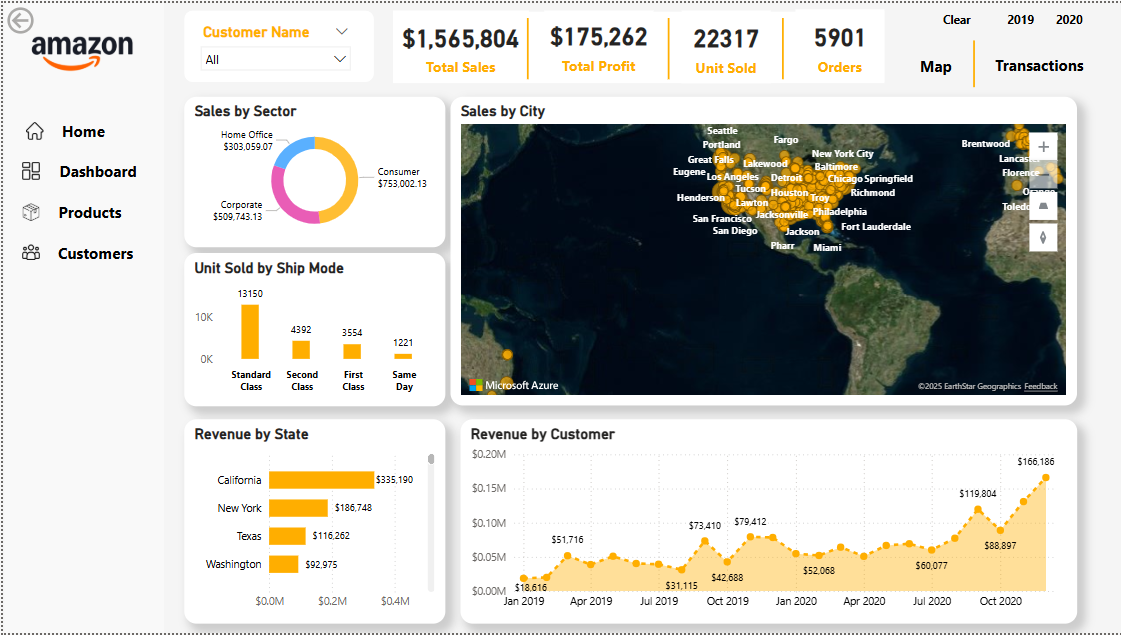

The page's visual inventory and layout, read from the dashboard file:
{"tool":"powerbi","page":{"name":"Customers","canvas":[1280,720],"ordinal":4},"visuals":[{"type":"actionButton","box":[0,0,100,40],"z":0},{"type":"textbox","box":[1.4,0,182.3,720.7],"z":1000},{"type":"actionButton","box":[14.9,125.4,155.3,40.3],"z":2000},{"type":"actionButton","box":[20.9,173.2,174.7,38.8],"z":3000},{"type":"actionButton","box":[16.4,218,167.2,40.3],"z":4000},{"type":"actionButton","box":[20.9,265.8,168.7,38.8],"z":5000},{"type":"image","box":[14.9,131.4,43.3,29.9],"z":6000},{"type":"image","box":[10.5,177.7,43.3,29.9],"z":7000},{"type":"image","box":[10.5,224,43.3,29.9],"z":8000},{"type":"image","box":[10.5,270.3,44.8,29.9],"z":9000},{"type":"image","box":[6,19.4,170.2,76.2],"z":10000},{"type":"donutChart","title":"Sales by Sector","fields":{"Category":["Amazon_cleaned.Segment"],"Y":["Sum(Amazon_cleaned.Sales)"]},"box":[206.7,106.7,298.3,171.7],"z":11000},{"type":"shape","box":[206.7,8.3,216.7,81.7],"z":16000},{"type":"slicer","fields":{"Values":["Amazon_cleaned.Customer Name"]},"box":[215,18.3,191.7,61.7],"z":17000},{"type":"shape","box":[445,10,561.7,81.7],"z":18000},{"type":"card","fields":{"Values":["Sum(Amazon_cleaned.Sales)"]},"box":[445,8.3,155,81.7],"z":19000},{"type":"shape","box":[581.7,16.7,36.7,70],"z":20000},{"type":"shape","box":[745,16.7,30,70],"z":21000},{"type":"shape","box":[876.7,16.7,28.3,70],"z":22000},{"type":"card","fields":{"Values":["Sum(Amazon_cleaned.Profit)"]},"box":[618.3,8.3,125,78.3],"z":23000},{"type":"card","fields":{"Values":["CountNonNull(Amazon_cleaned.Order ID)"]},"box":[905,6.7,101.7,83.3],"z":24000},{"type":"card","fields":{"Values":["Sum(Amazon_cleaned.Quantity)"]},"box":[775,8.3,101.7,83.3],"z":25000},{"type":"actionButton","box":[1023.3,51.7,86.7,40],"z":26000},{"type":"actionButton","box":[1128.3,50,111.7,40],"z":27000},{"type":"shape","box":[1091.7,43.3,36.7,53.3],"z":28000},{"type":"clusteredColumnChart","title":"Unit Sold by Ship Mode","fields":{"Category":["Amazon_cleaned.Ship Mode"],"Y":["Sum(Amazon_cleaned.Quantity)"]},"box":[206.7,285,298.3,175],"z":29000},{"type":"clusteredBarChart","title":"Revenue by State","fields":{"Y":["Sum(Amazon_cleaned.Sales)"],"Category":["Amazon_cleaned.State"]},"box":[206.7,475,298.3,233.3],"z":30000},{"type":"azureMap","title":"Sales by City","fields":{"Size":["Sum(Amazon_cleaned.Sales)"],"Category":["Amazon_cleaned.City"]},"box":[511,107,716,353],"z":31000},{"type":"areaChart","title":"Revenue by Customer","fields":{"Y":["Sum(Amazon_cleaned.Sales)"],"Category":["Amazon_cleaned.Order Date.Variation.Date Hierarchy.Year","Amazon_cleaned.Order Date.Variation.Date Hierarchy.Month"]},"box":[523.3,475,705,233.3],"z":32000},{"type":"actionButton","box":[1056.2,0,68.8,36.2],"z":34000},{"type":"actionButton","box":[1128.8,0,68.8,36.2],"z":35000},{"type":"actionButton","box":[1183.8,0,68.8,36.2],"z":36000}]}

Visuals, with their boxes on the page's 1280x720 design canvas (x1, y1, x2, y2). These are canvas units, not pixel positions in the 1121x635 screenshot, which may show the page scaled, cropped or inside an application window:
actionButton: <box>0,0,100,40</box>
textbox: <box>1,0,184,721</box>
actionButton: <box>15,125,170,166</box>
actionButton: <box>21,173,196,212</box>
actionButton: <box>16,218,184,258</box>
actionButton: <box>21,266,190,305</box>
image: <box>15,131,58,161</box>
image: <box>10,178,54,208</box>
image: <box>10,224,54,254</box>
image: <box>10,270,55,300</box>
image: <box>6,19,176,96</box>
"Sales by Sector" donutChart: <box>207,107,505,278</box>
shape: <box>207,8,423,90</box>
slicer - Amazon_cleaned.Customer Name: <box>215,18,407,80</box>
shape: <box>445,10,1007,92</box>
card - Sum(Amazon_cleaned.Sales): <box>445,8,600,90</box>
shape: <box>582,17,618,87</box>
shape: <box>745,17,775,87</box>
shape: <box>877,17,905,87</box>
card - Sum(Amazon_cleaned.Profit): <box>618,8,743,87</box>
card - CountNonNull(Amazon_cleaned.Order ID): <box>905,7,1007,90</box>
card - Sum(Amazon_cleaned.Quantity): <box>775,8,877,92</box>
actionButton: <box>1023,52,1110,92</box>
actionButton: <box>1128,50,1240,90</box>
shape: <box>1092,43,1128,97</box>
"Unit Sold by Ship Mode" clusteredColumnChart: <box>207,285,505,460</box>
"Revenue by State" clusteredBarChart: <box>207,475,505,708</box>
"Sales by City" azureMap: <box>511,107,1227,460</box>
"Revenue by Customer" areaChart: <box>523,475,1228,708</box>
actionButton: <box>1056,0,1125,36</box>
actionButton: <box>1129,0,1198,36</box>
actionButton: <box>1184,0,1253,36</box>
